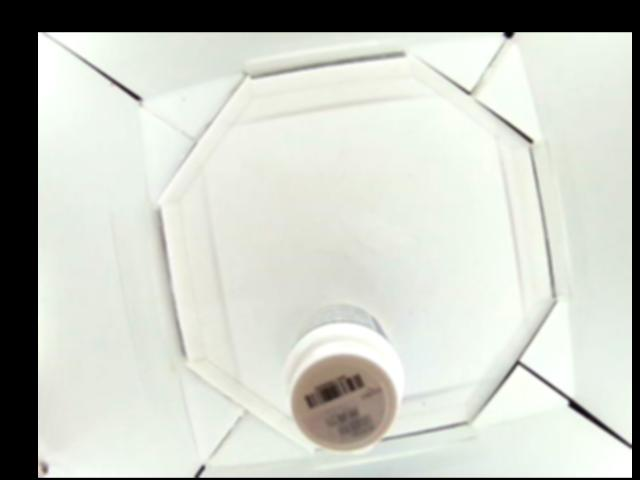Bottle: (286, 304, 405, 453)
